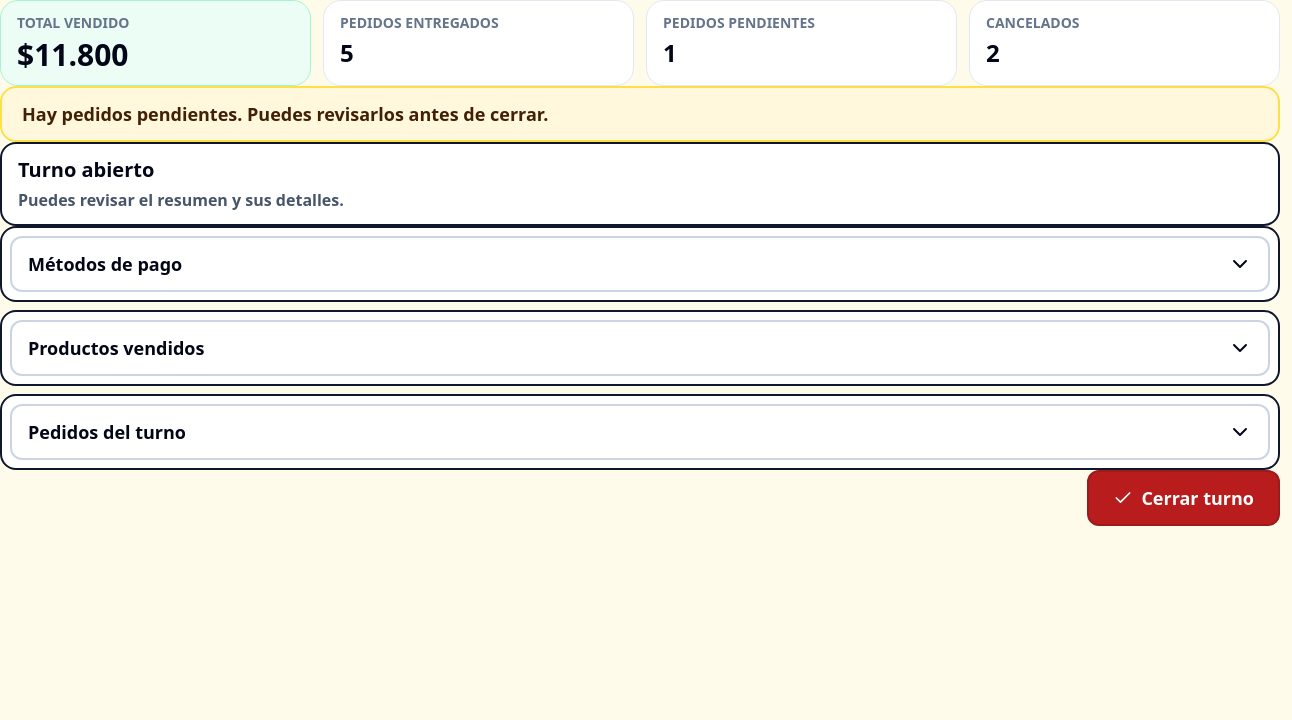
Scenario: resumen de cierre de turno en modo fácil › abre y cierra el acordeón Productos vendidos actualizando aria-expanded
This screenshot has width=1292, height=720.
Expected: the text "Resumen por producto entregado." is not shown
Click the button "Productos vendidos": click(116, 348) 10,320 -> 1270,376
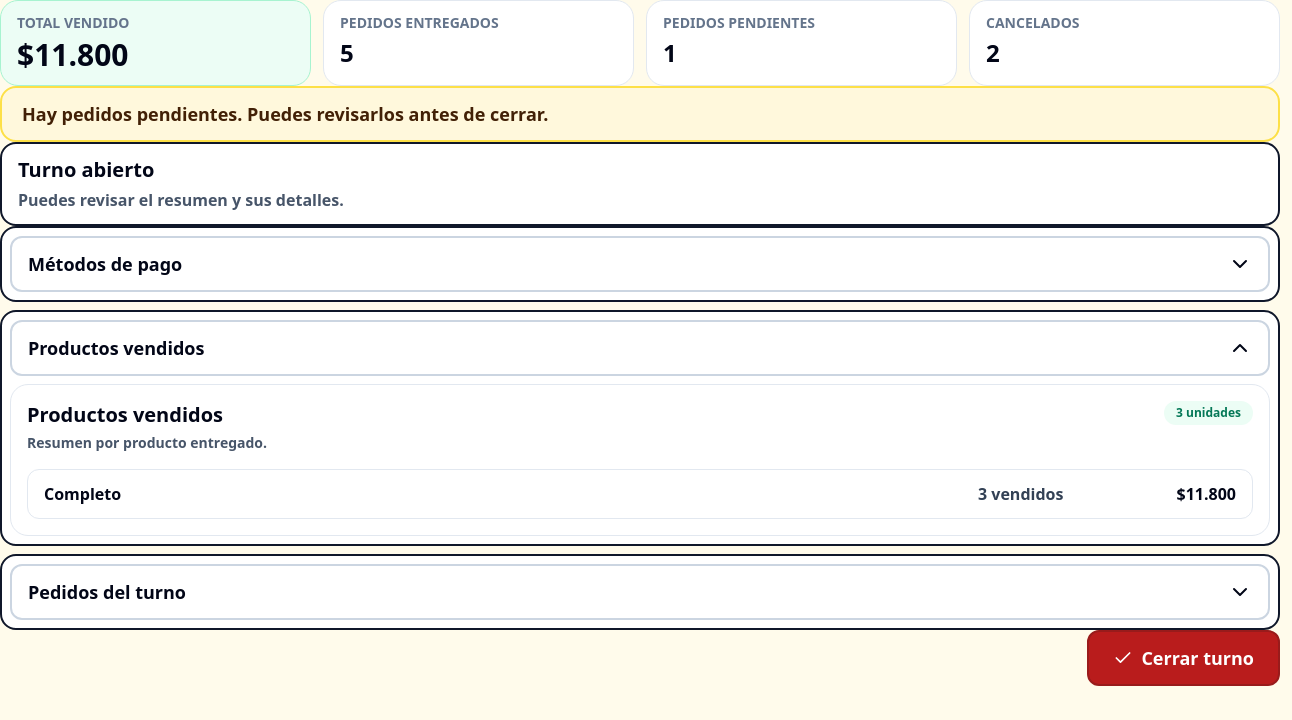
Result: the button "Productos vendidos" is expanded
Result: the text "Resumen por producto entregado." is shown at 27,433 -> 267,453
Click the button "Productos vendidos": click(116, 348) 10,320 -> 1270,376
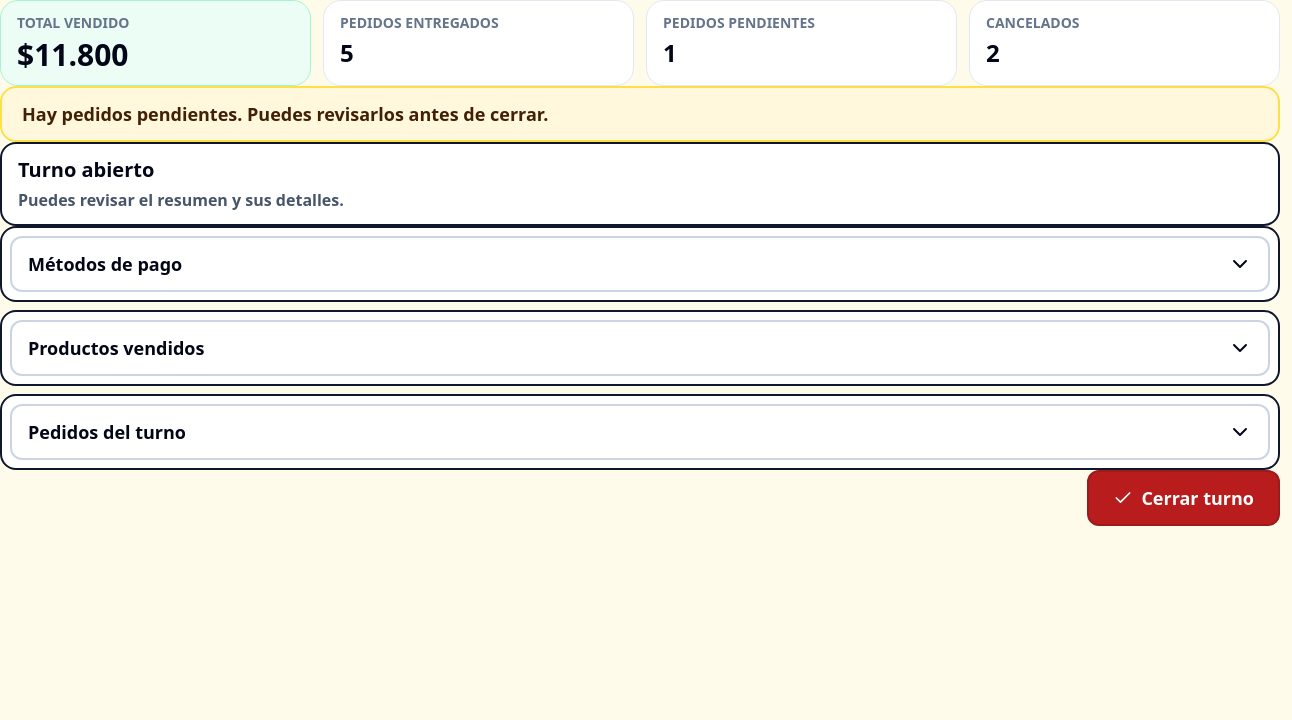
Result: the button "Productos vendidos" is collapsed at 10,320 -> 1270,376
Result: the text "Resumen por producto entregado." is gone
